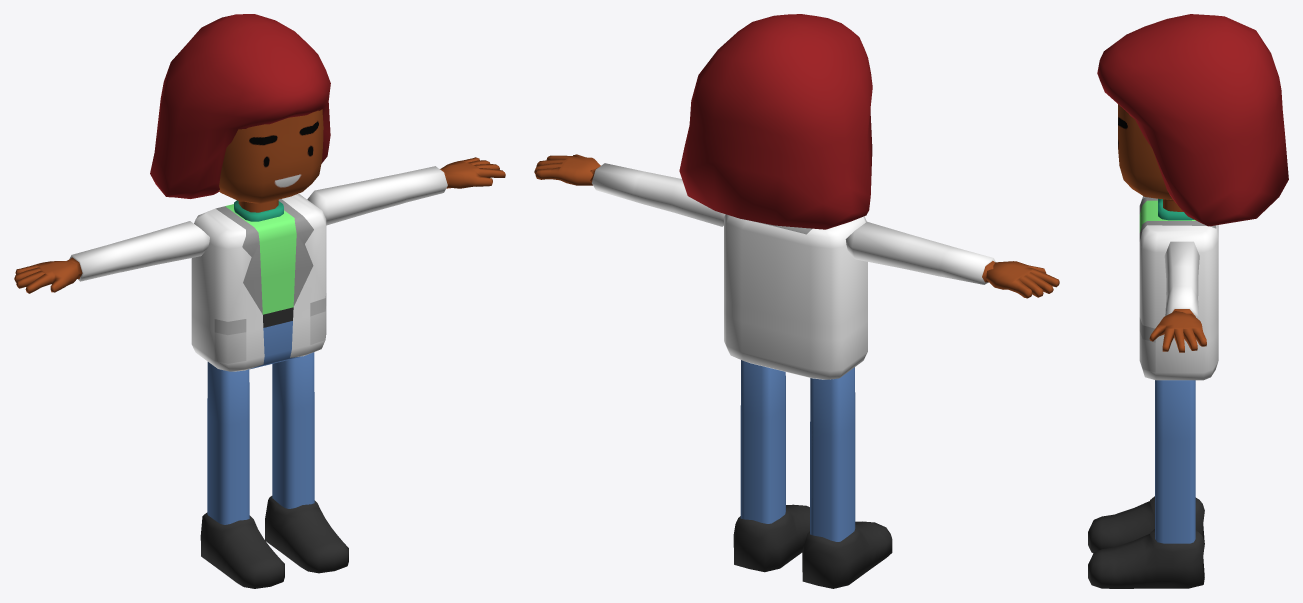
Rendered from NPC_Yellow01_RedHair05.gltf.
3 renders of one model, left to right at view 1: azimuth 30°, elevation 25°; view 2: azimuth 150°, elevation 25°; view 3: azimuth 270°, elevation 25°, orthographic. The views are drawn at different scales.
Parts seen in each view (by area): view 1: NPC_Corpo_Yellow1_RedHair.005; view 2: NPC_Corpo_Yellow1_RedHair.005; view 3: NPC_Corpo_Yellow1_RedHair.005.
Boxes of the visible parts, bbox=[...] form: NPC_Corpo_Yellow1_RedHair.005: bbox=[14, 14, 505, 588]; NPC_Corpo_Yellow1_RedHair.005: bbox=[534, 14, 1059, 588]; NPC_Corpo_Yellow1_RedHair.005: bbox=[1088, 14, 1288, 588].
Bounding box in the file's own units: 2.31 × 2.37 × 0.7967.
1 material, 1 textured.
